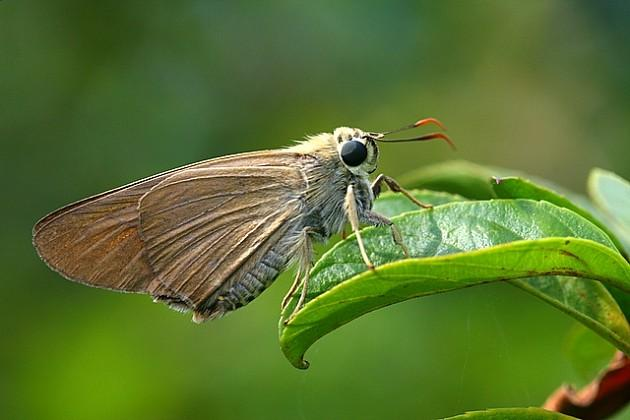Hesperiidae: (30, 108, 460, 328)
